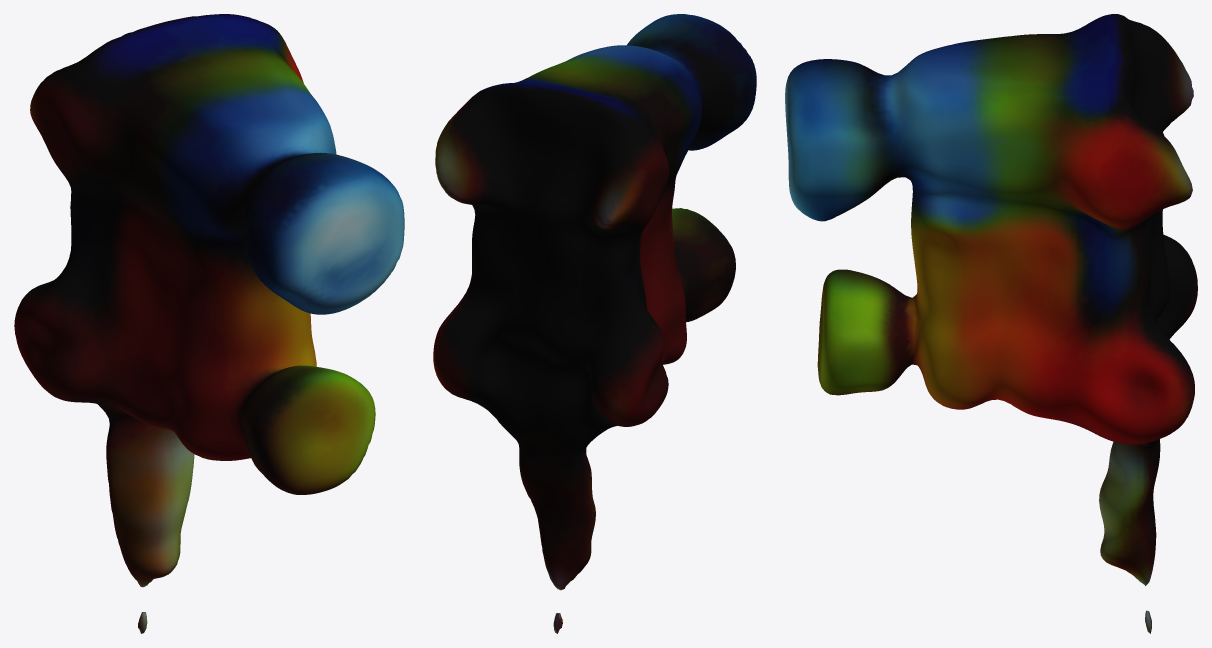
File: train.glb
The picture shows the model from 3 angles, left to right: view 1: azimuth 30°, elevation 25°; view 2: azimuth 150°, elevation 25°; view 3: azimuth 270°, elevation 25°; orthographic projection. The views are drawn at different scales.
Size of the model in its own units: 0.4167 by 0.997 by 0.6198.
